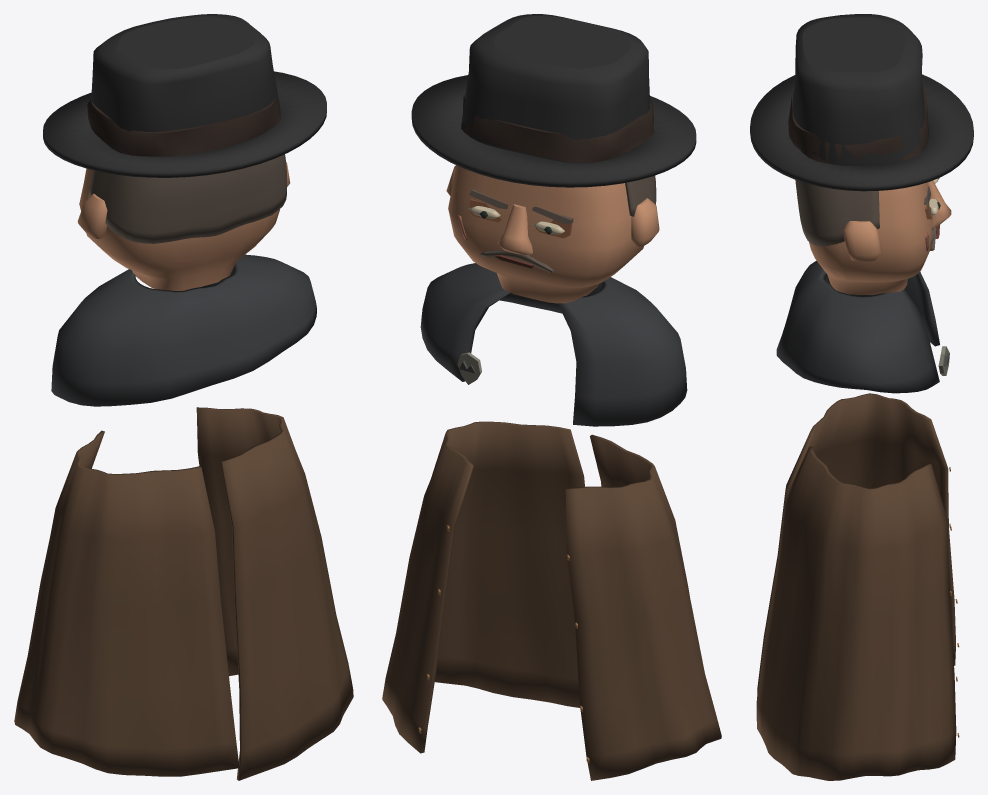
The model's file is ExMarshal.glb.
The picture shows the model from 3 angles, left to right: view 1: azimuth 30°, elevation 25°; view 2: azimuth 150°, elevation 25°; view 3: azimuth 270°, elevation 25°; orthographic projection. The views are drawn at different scales.
Parts seen in each view (by area): view 1: Geo_LeftCoatTail, Geo_RightCoatTail, Geo_WatchCape, Geo_ShawHat, Geo_MarshalHair, Geo_ShawBrim, Geo_Head, Geo_ShawBand, Geo_Ears; view 2: Geo_RightCoatTail, Geo_LeftCoatTail, Geo_WatchCape, Geo_ShawHat, Geo_Head, Geo_ShawBrim, Geo_ShawBand, Geo_Ears, Geo_Nose, Geo_MarshalHair, Geo_Brow; view 3: Geo_RightCoatTail, Geo_ShawHat, Geo_WatchCape, Geo_LeftCoatTail, Geo_ShawBrim, Geo_Head, Geo_MarshalHair, Geo_ShawBand, Geo_Ears, Geo_Nose.
Part boxes in pixels (x1,y1,x2,y2): Geo_LeftCoatTail: (14, 430, 239, 776); Geo_RightCoatTail: (196, 407, 353, 780); Geo_WatchCape: (51, 254, 316, 406); Geo_ShawHat: (91, 14, 280, 133); Geo_MarshalHair: (88, 154, 286, 243); Geo_ShawBrim: (43, 71, 326, 177); Geo_Head: (79, 168, 279, 290); Geo_ShawBand: (87, 94, 281, 156); Geo_Ears: (77, 162, 290, 238); Geo_RightCoatTail: (382, 421, 584, 753); Geo_LeftCoatTail: (565, 434, 721, 780); Geo_WatchCape: (420, 263, 687, 426); Geo_ShawHat: (461, 14, 650, 163); Geo_Head: (448, 165, 643, 303); Geo_ShawBrim: (411, 75, 696, 187); Geo_ShawBand: (461, 92, 654, 162); Geo_Ears: (446, 165, 659, 246); Geo_Nose: (497, 204, 532, 254); Geo_MarshalHair: (625, 175, 656, 216); Geo_Brow: (469, 189, 573, 224); Geo_RightCoatTail: (756, 446, 956, 780); Geo_ShawHat: (792, 14, 927, 165); Geo_WatchCape: (776, 260, 939, 393); Geo_LeftCoatTail: (757, 393, 955, 697); Geo_ShawBrim: (750, 74, 973, 191); Geo_Head: (809, 182, 933, 294); Geo_MarshalHair: (795, 180, 879, 246); Geo_ShawBand: (788, 85, 929, 165); Geo_Ears: (843, 221, 881, 261); Geo_Nose: (928, 180, 951, 227).
Size of the model in its own units: 2.33 by 5.01 by 1.49.
